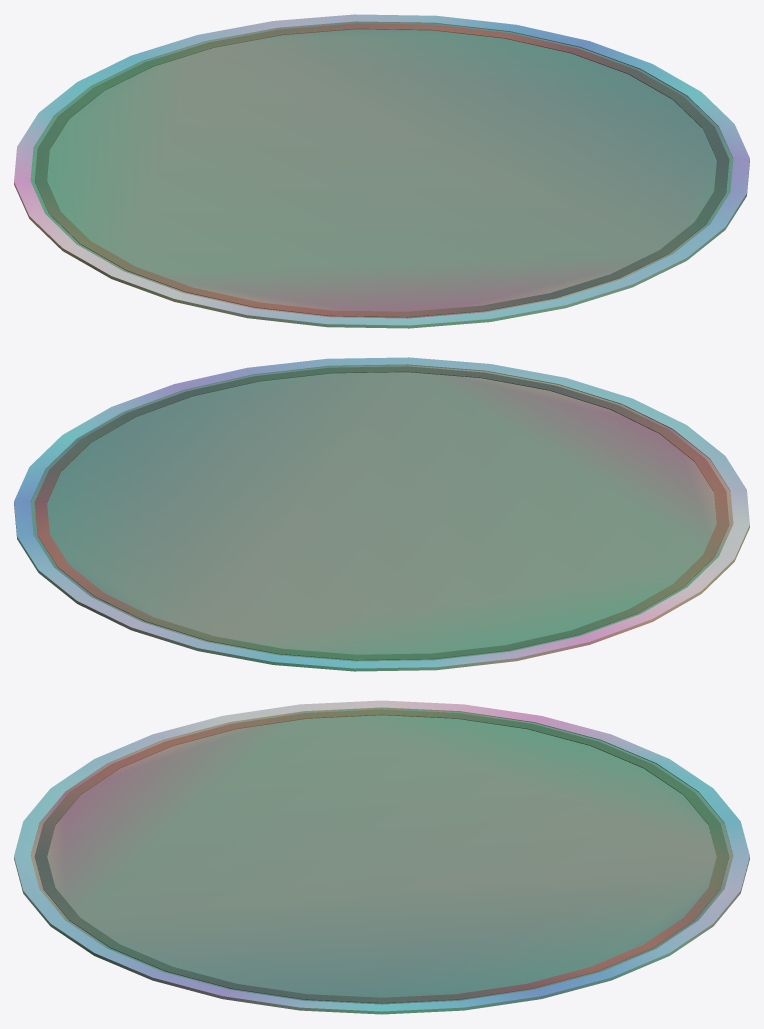
File: mosaic_medallion.glb
3 views of the same model, one above another, from view 1: azimuth 30°, elevation 25°; view 2: azimuth 150°, elevation 25°; view 3: azimuth 270°, elevation 25° (orthographic).
Parts seen in each view (by area): view 1: mosaic_disc, mosaic_rim, mosaic_inlay; view 2: mosaic_disc, mosaic_rim, mosaic_inlay; view 3: mosaic_disc, mosaic_rim, mosaic_inlay.
Boxes of the visible parts, x1,y1,x2,y2 form: mosaic_disc: [30, 22, 733, 318]; mosaic_rim: [14, 14, 749, 328]; mosaic_inlay: [34, 23, 729, 317]; mosaic_disc: [30, 365, 733, 661]; mosaic_rim: [14, 357, 749, 671]; mosaic_inlay: [34, 366, 729, 660]; mosaic_disc: [30, 708, 733, 1004]; mosaic_rim: [14, 700, 749, 1014]; mosaic_inlay: [34, 709, 729, 1003].
Size of the model in its own units: 3.56 by 0.016 by 3.56.
